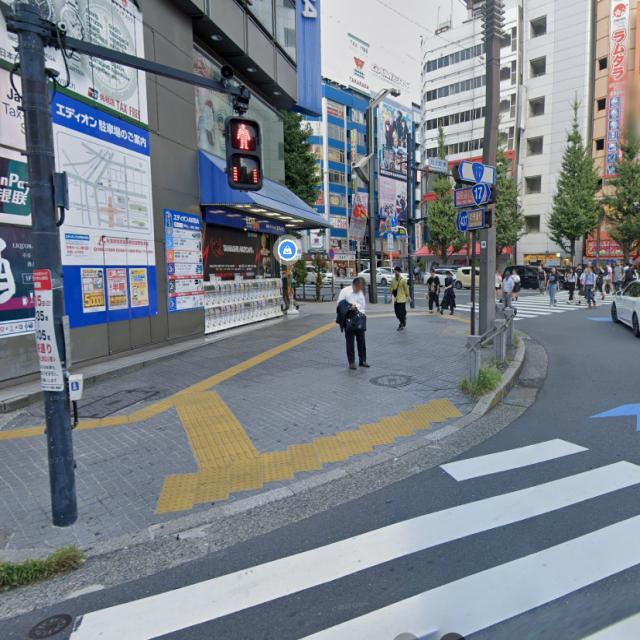traffic-light: (231, 115, 258, 187)
